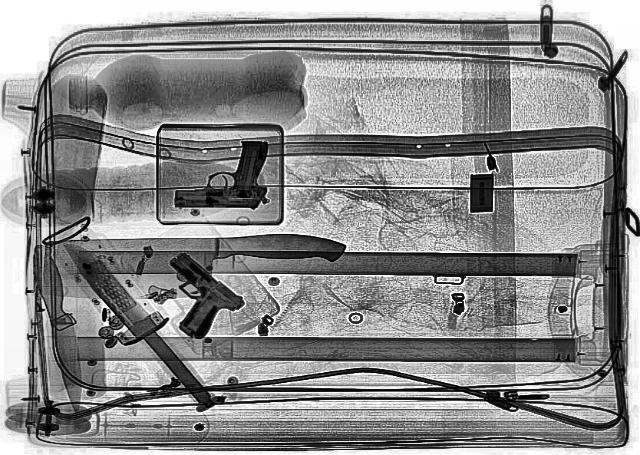Gun: (123, 252, 257, 340), (172, 139, 268, 209)
Knife: (52, 234, 216, 402), (32, 233, 344, 301), (26, 242, 90, 410)
